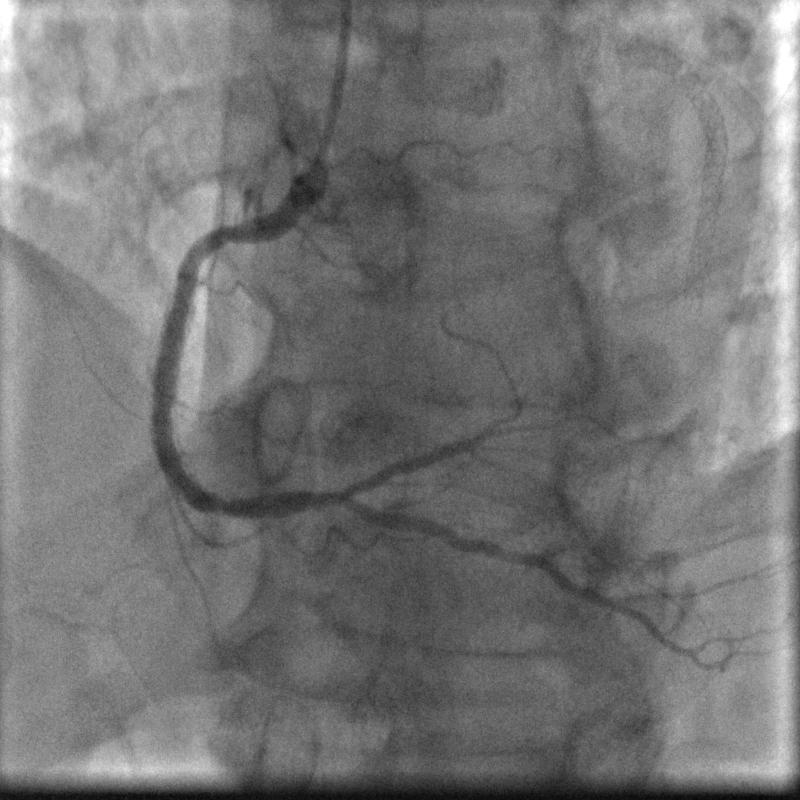Stenosis: (210, 217, 256, 252)
